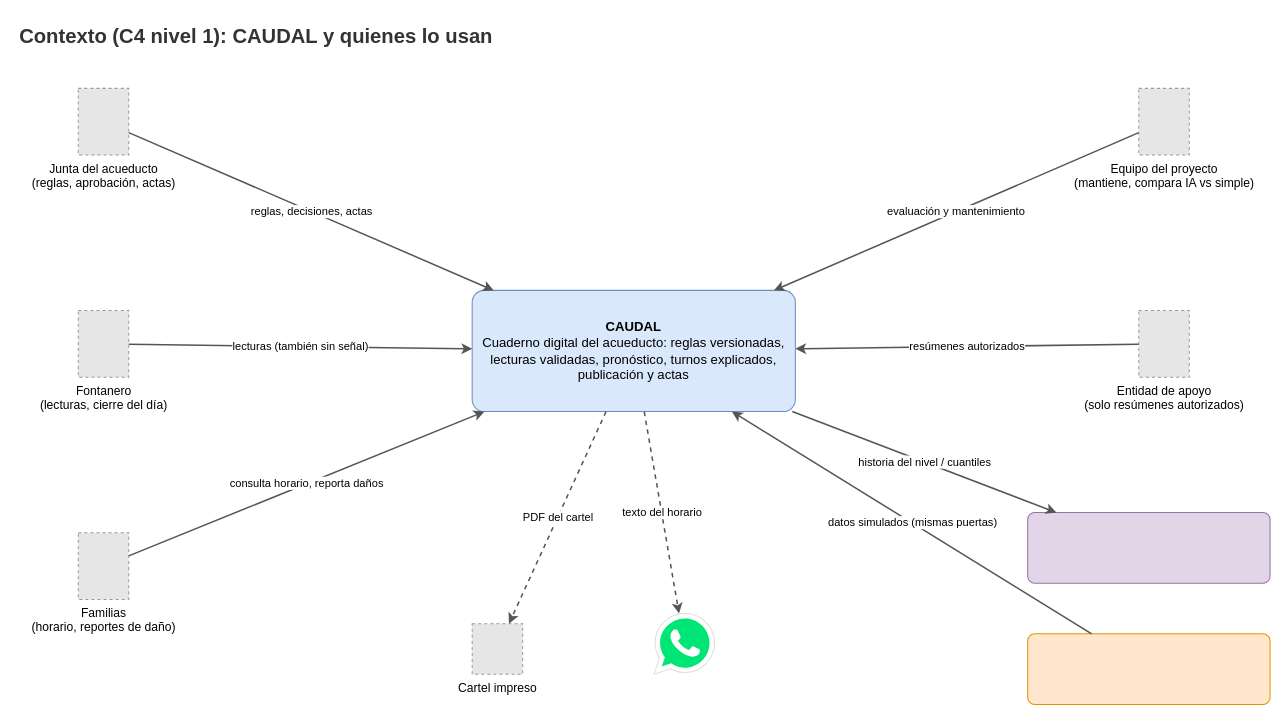
Image size: 1288x727. Some labels were removed from this diagram. Grey dashed boxes stand in for pictures. Here are the shapes that lost their labels. From the top down, the centre of each, then its label:
the point at 1148,547: Servicio de IA Chronos (pronóstico 1 a 3 días)
the point at 684,643: Grupo de WhatsApp (texto copiado por la Junta)
the point at 1148,668: Simulador del acueducto Datos de la región y hardware virtual
